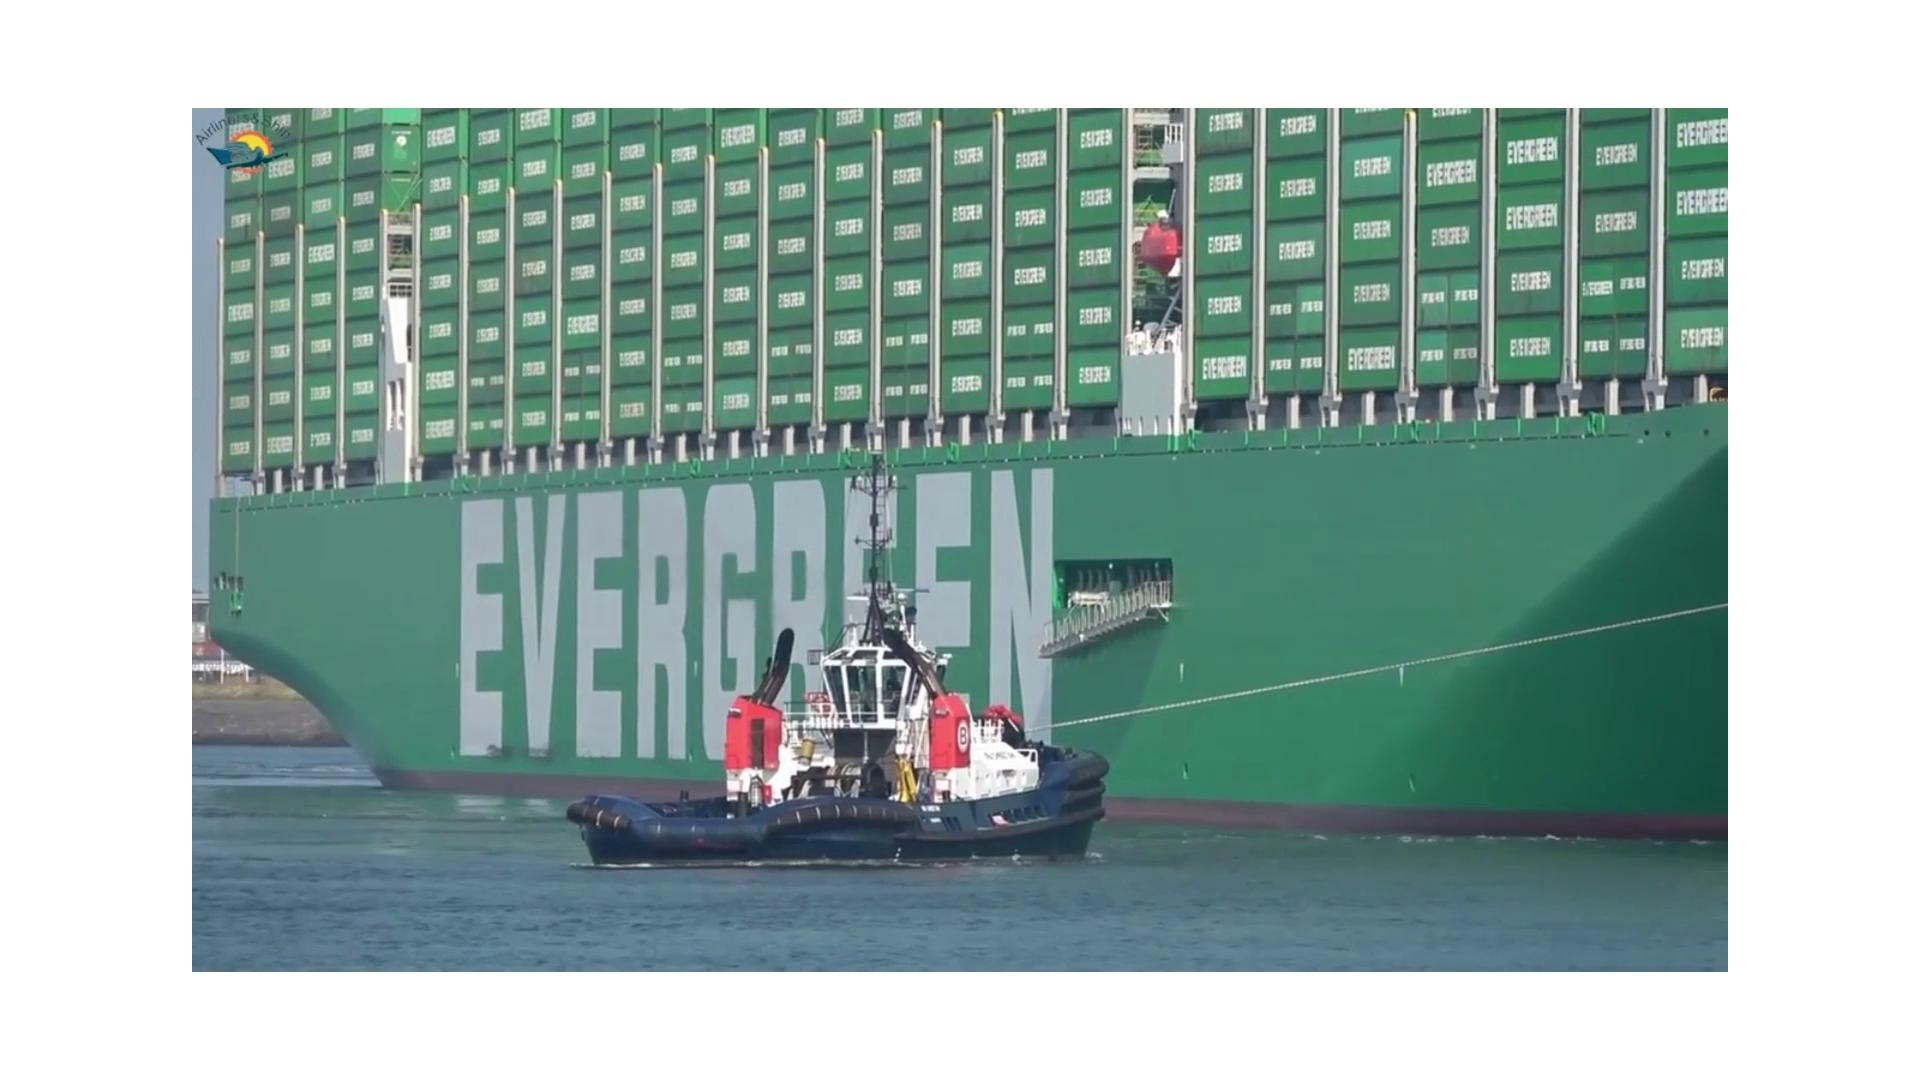OCR: (411, 433, 1085, 775)
